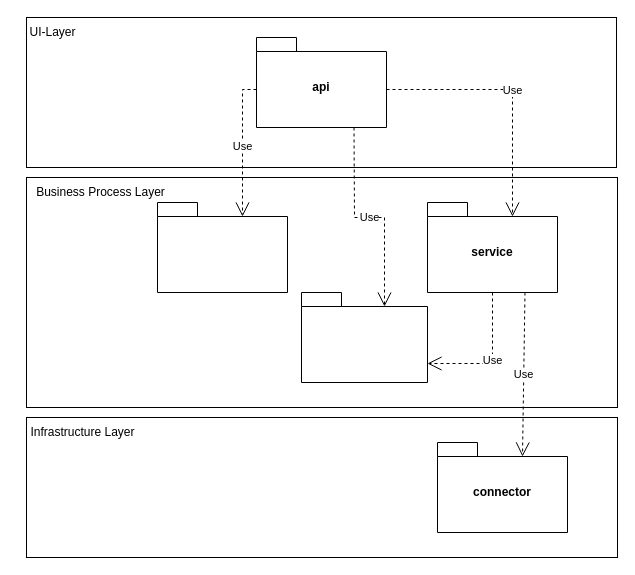
This 635x575 diagram has some shape labels left out. The box of each missing label's shape, as (x1, y1, x2, y2) in pixels:
middleware: (156, 202, 288, 292)
model: (300, 292, 428, 382)
